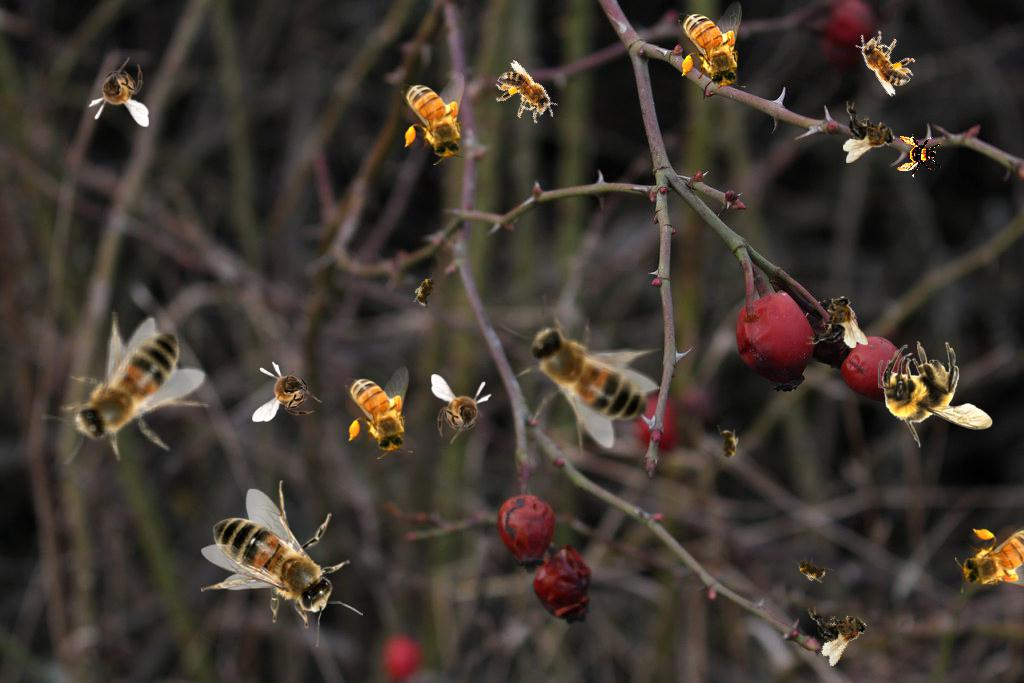Bee: (32, 300, 223, 488), (499, 292, 661, 459), (201, 480, 363, 647), (878, 341, 993, 448), (678, 1, 746, 94), (401, 72, 469, 165), (345, 366, 413, 459), (844, 20, 924, 99), (487, 58, 567, 133), (803, 590, 878, 668), (955, 525, 1024, 593), (252, 361, 322, 422), (88, 57, 149, 127), (431, 374, 492, 444), (843, 101, 896, 163), (806, 295, 868, 348), (897, 134, 941, 178), (788, 549, 834, 589), (407, 268, 447, 314), (717, 425, 739, 465)
